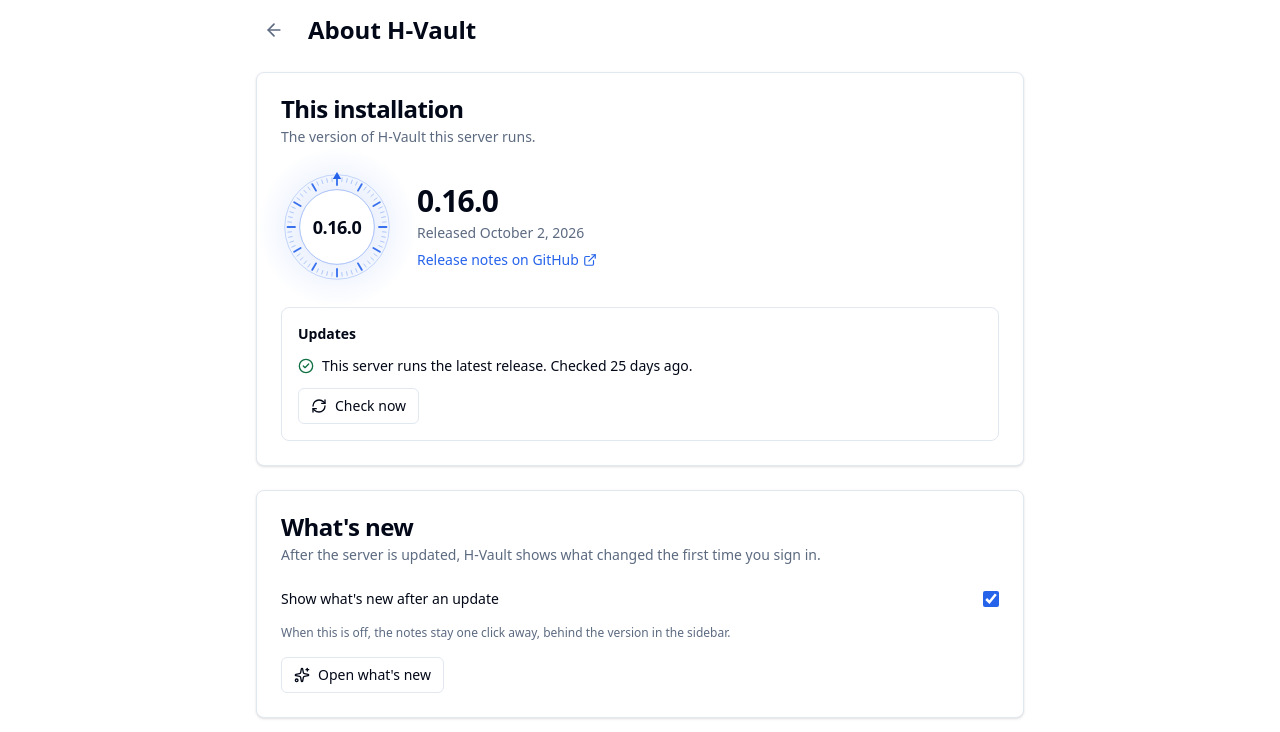
Test: AboutPage: the what's new preference › reports a failed save and keeps the stored value
The width and height of the screenshot is (1280, 732).
Step 1. Click the checkbox labelled "Show what's new after an update" → (991, 599), box x1=983 y1=591 x2=999 y2=607
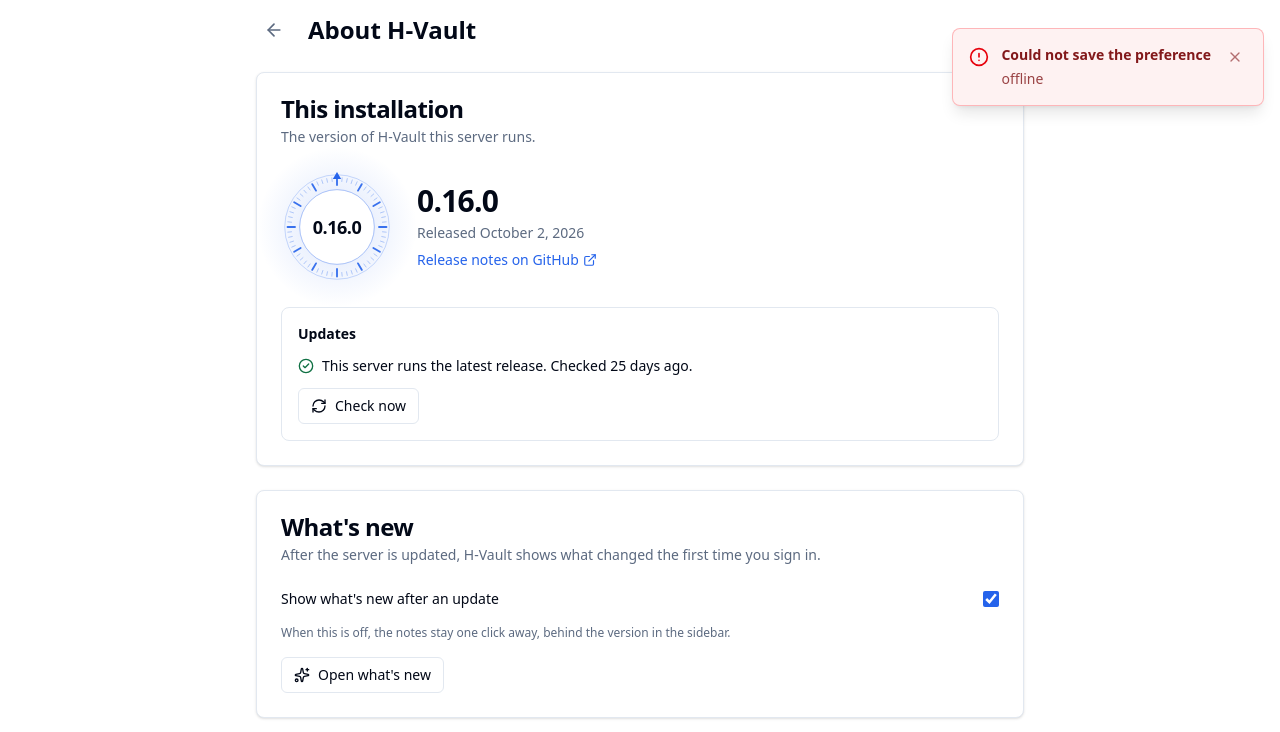
Now the text "Could not save the preference" is shown, box x1=1002 y1=45 x2=1211 y2=65
